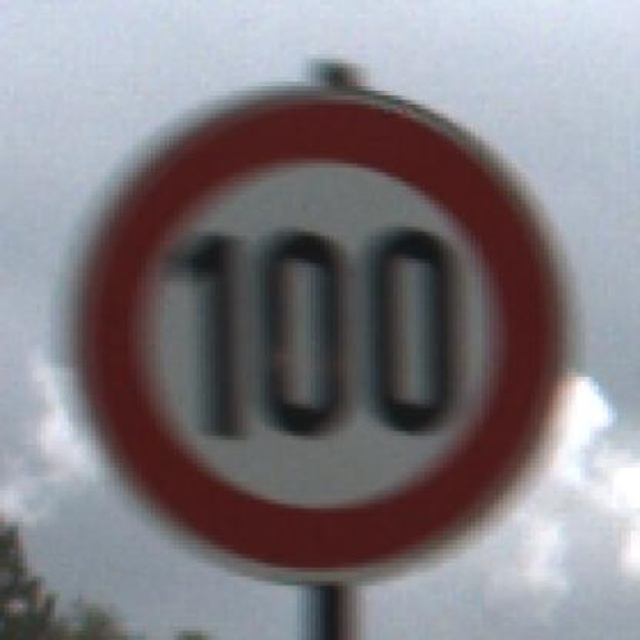Tốc độ tối đa cho phép 100km/h: (83, 93, 564, 575)
